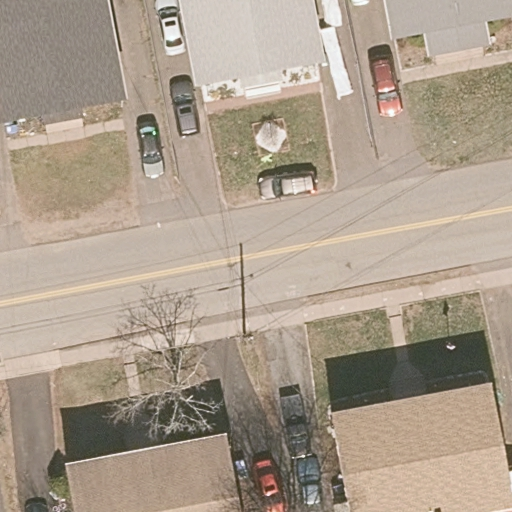DT: (236, 318, 258, 344)
